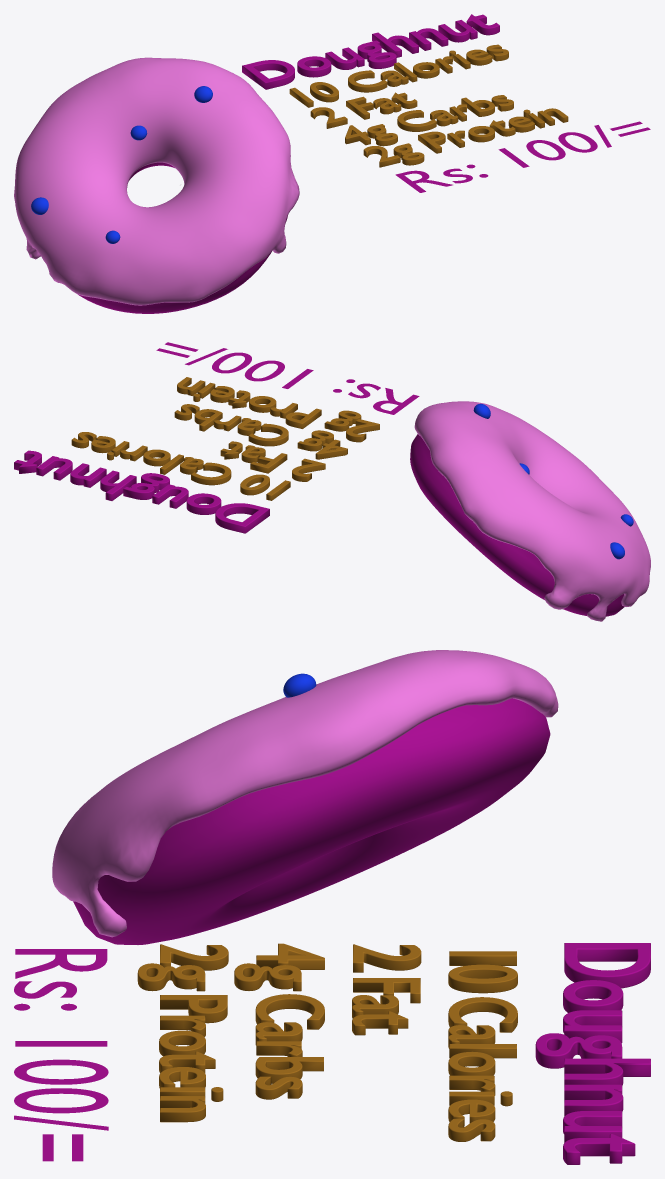
The model's file is Doughnut.glb.
3 views of the same model, one above another, from view 1: azimuth 30°, elevation 25°; view 2: azimuth 150°, elevation 25°; view 3: azimuth 270°, elevation 25° (orthographic). The views are drawn at different scales.
Parts seen in each view (by area): view 1: Icing, Text, Text.001, Text.002, Dough; view 2: Icing, Text, Dough, Text.001, Text.002; view 3: Dough, Icing, Text, Text.001, Text.002.
Boxes of the visible parts, x1,y1,x2,y2 form: Icing: [14, 57, 299, 305]; Text: [289, 44, 568, 167]; Text.001: [242, 14, 499, 89]; Text.002: [395, 121, 650, 192]; Dough: [42, 162, 288, 313]; Icing: [414, 401, 650, 621]; Text: [71, 377, 379, 500]; Dough: [410, 434, 624, 616]; Text.001: [14, 450, 269, 533]; Text.002: [156, 342, 419, 414]; Dough: [73, 698, 550, 944]; Icing: [52, 650, 558, 937]; Text: [137, 943, 517, 1141]; Text.001: [535, 943, 650, 1164]; Text.002: [14, 949, 108, 1161].
Bounding box in the file's own units: 4.78 × 1.59 × 2.71.
